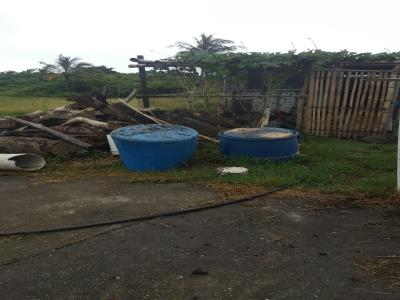bucket: (108, 120, 201, 175), (215, 123, 301, 160)
